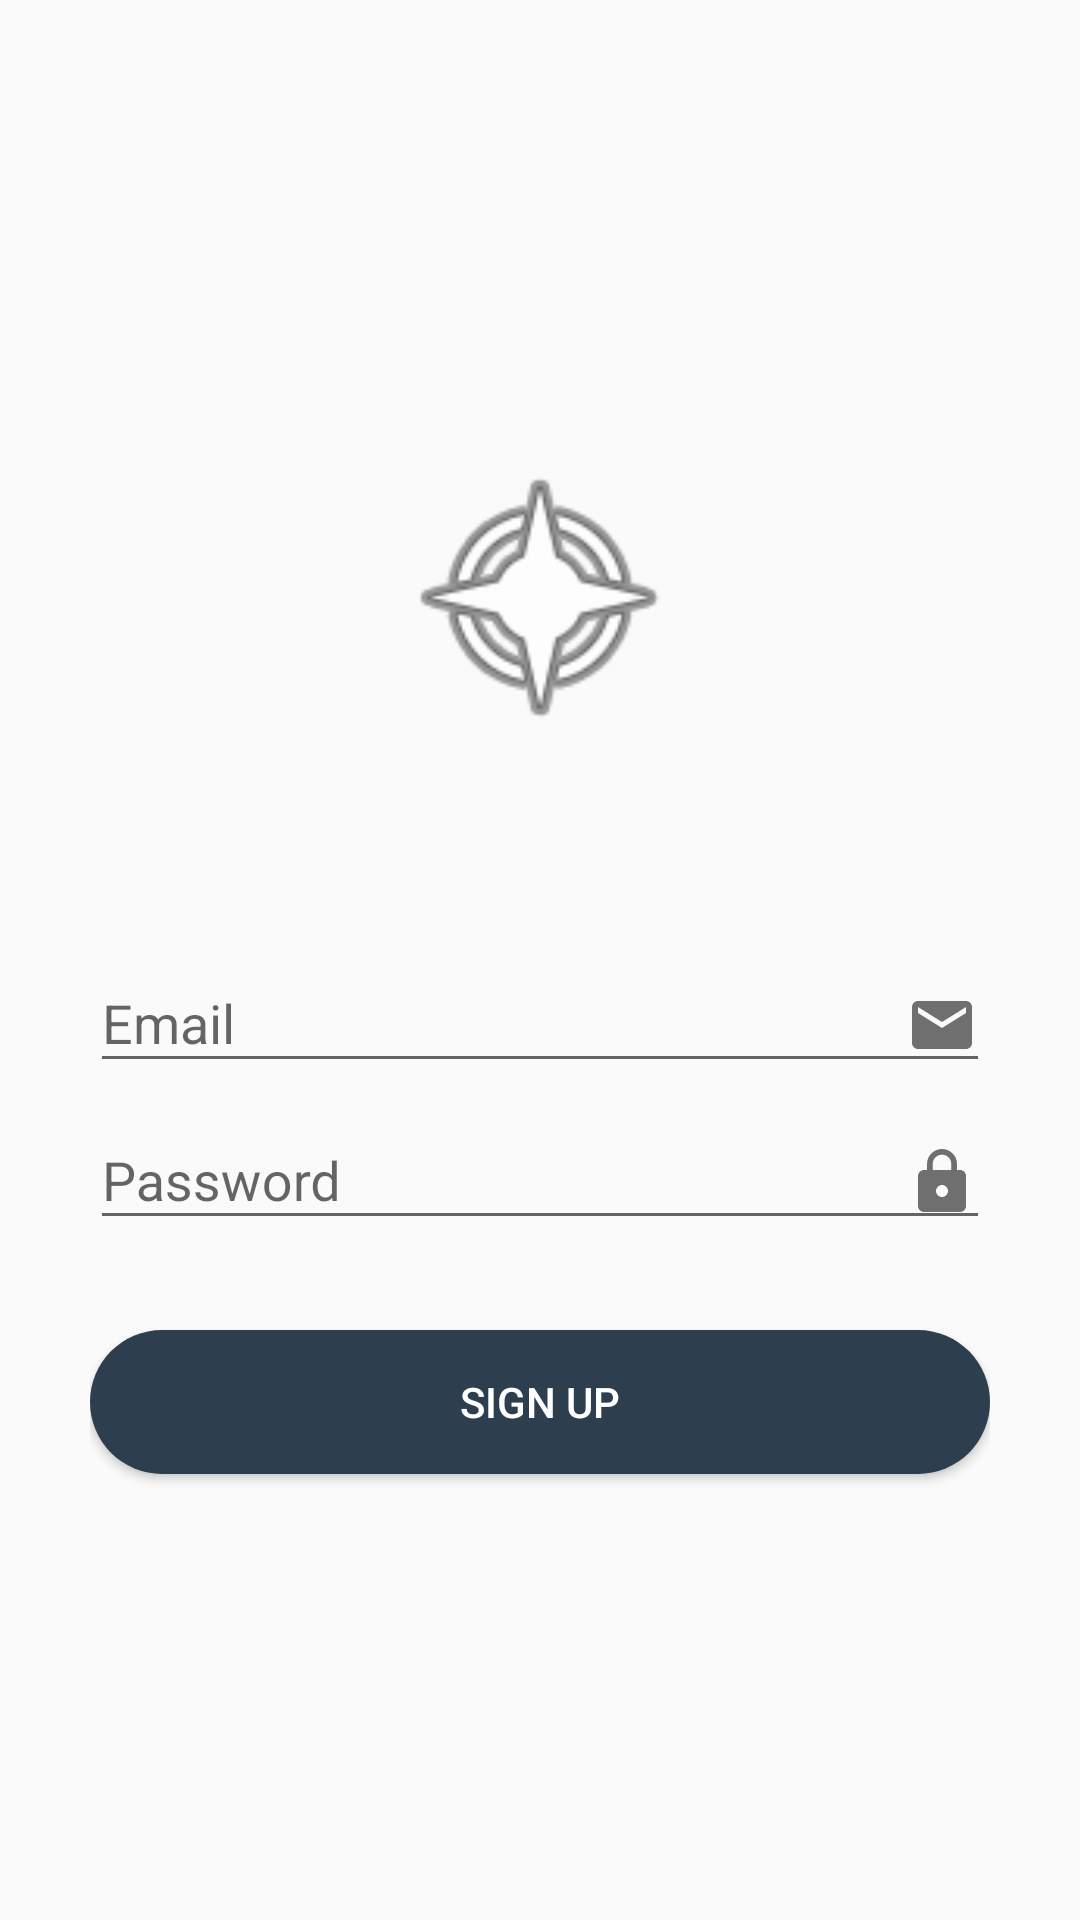

Point at icon controls on the screen. Image size 1080×1920, points as point (x, y).
compass: point (539, 597)
